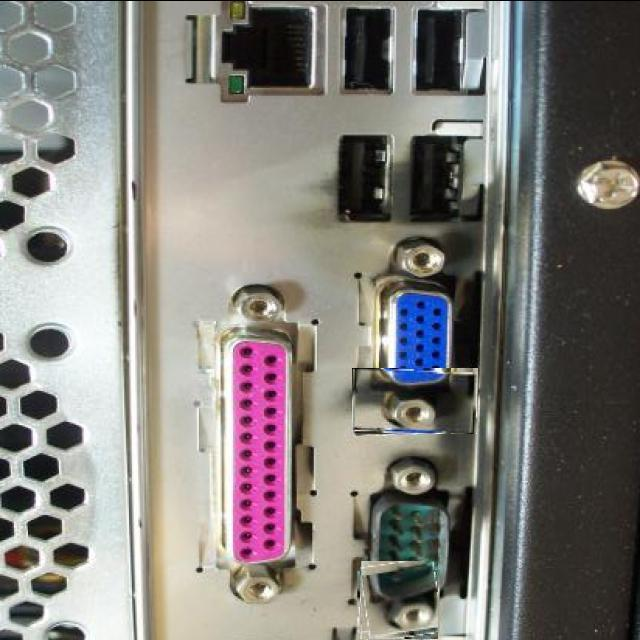damged: (352, 368, 478, 434), (360, 562, 438, 640)
